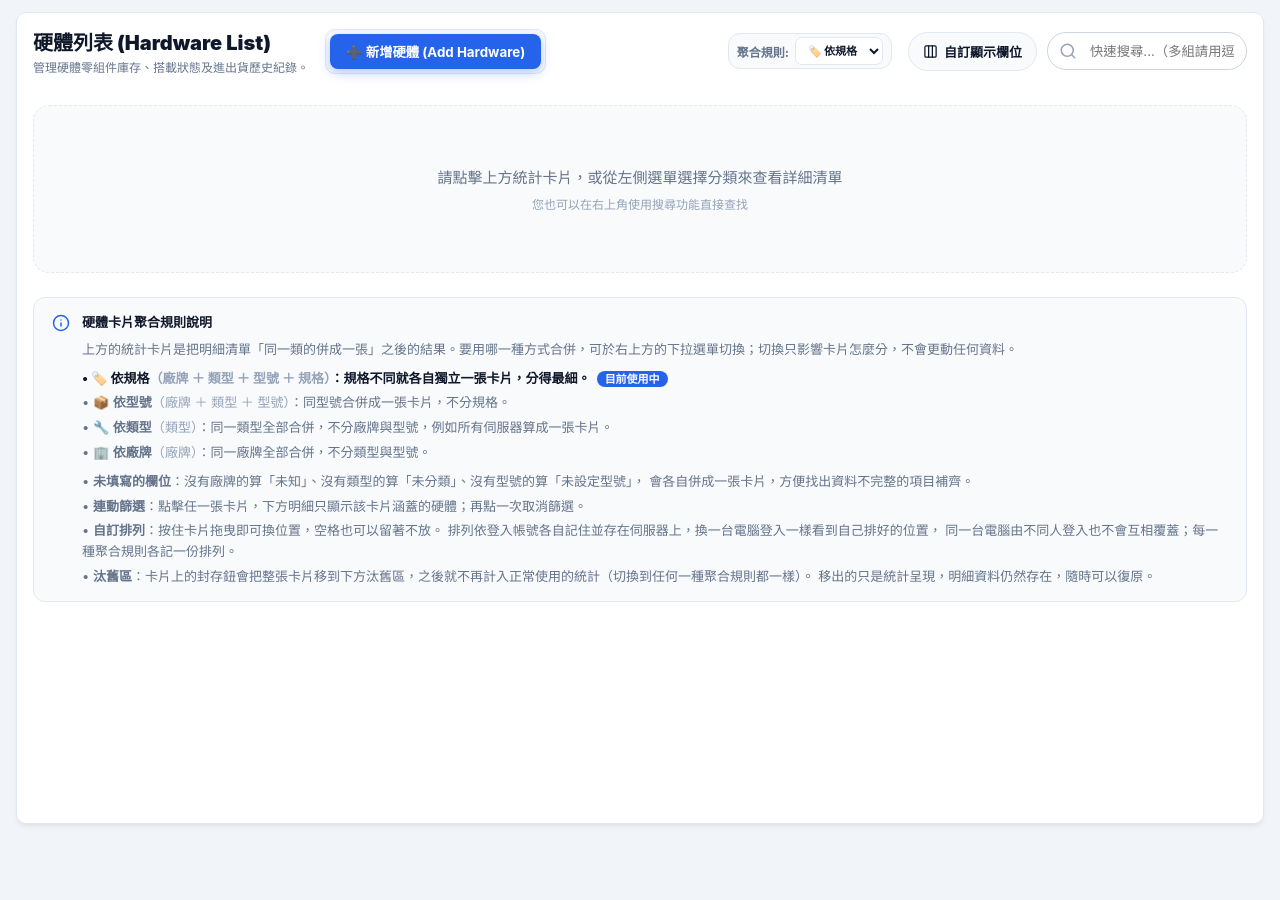
Scenario: 列表在狀態底下顯示借用單號 › 借出中的硬體要顯示借用單號
This screenshot has width=1280, height=900.
Type "TESTBRAND" into the field with placeholder "快速搜尋...（多組請用逗號分隔）". click: (1147, 51)
box: [1047, 32, 1247, 70]
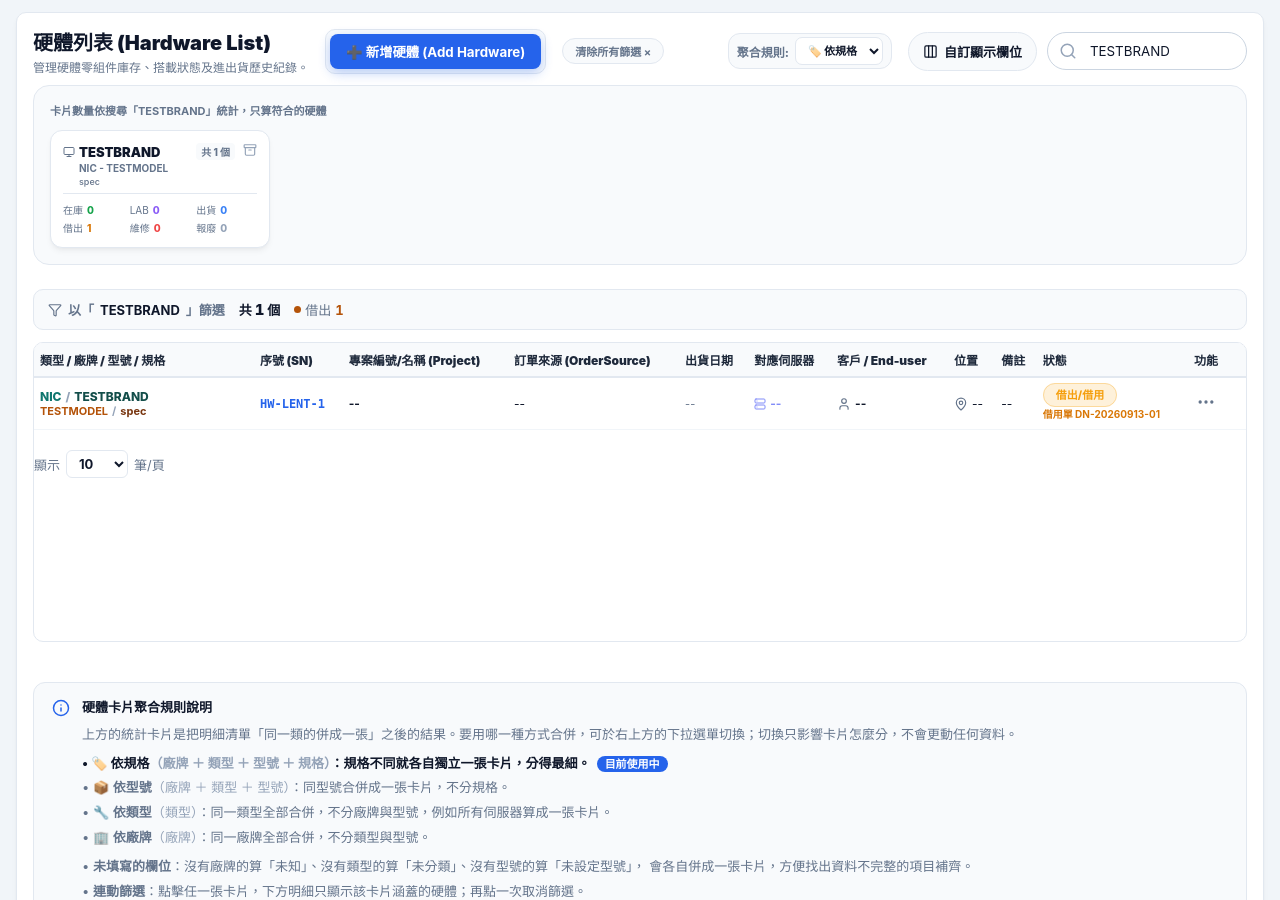
Expected: the text "HW-LENT-1" is shown, [254, 377, 343, 430]
Expected: the text "借用單 DN-20260913-01" is shown, [1043, 406, 1160, 421]
